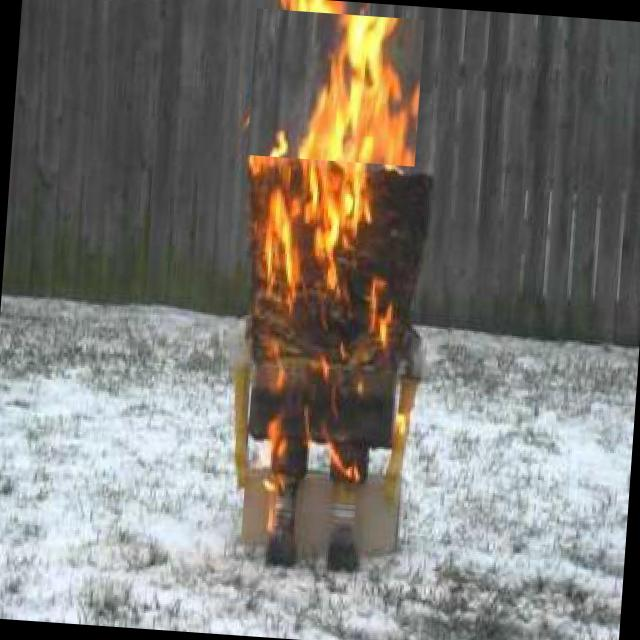fire: (246, 8, 424, 166)
